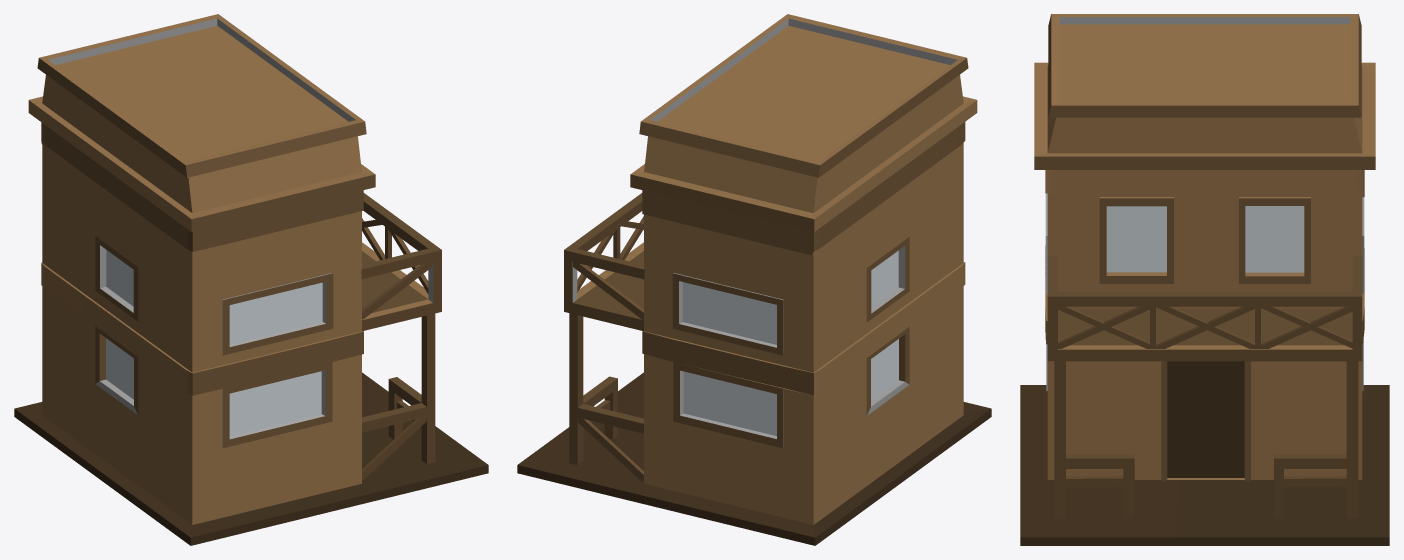
The model's file is CasitaA.fbx.
3 renders of one model, left to right at view 1: azimuth 30°, elevation 25°; view 2: azimuth 150°, elevation 25°; view 3: azimuth 270°, elevation 25°, orthographic. The views are drawn at different scales.
Parts seen in each view (by area): view 1: CasitaA; view 2: CasitaA; view 3: CasitaA.
Boxes of the visible parts, box(x1,y1,x2,y2) form: CasitaA: box(14, 14, 488, 545); CasitaA: box(517, 14, 991, 545); CasitaA: box(1020, 14, 1389, 545).
Bounding box in the file's own units: 92.73 × 109 × 95.09.
